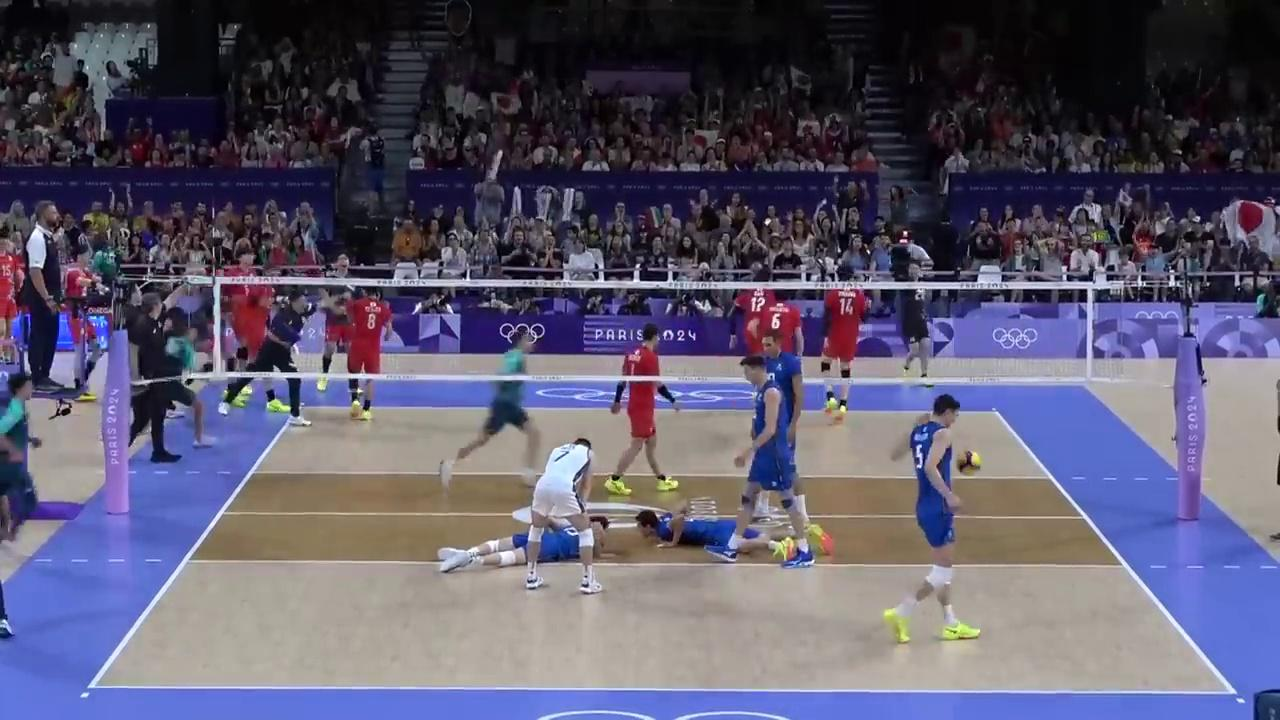ball: (957, 451, 979, 475)
